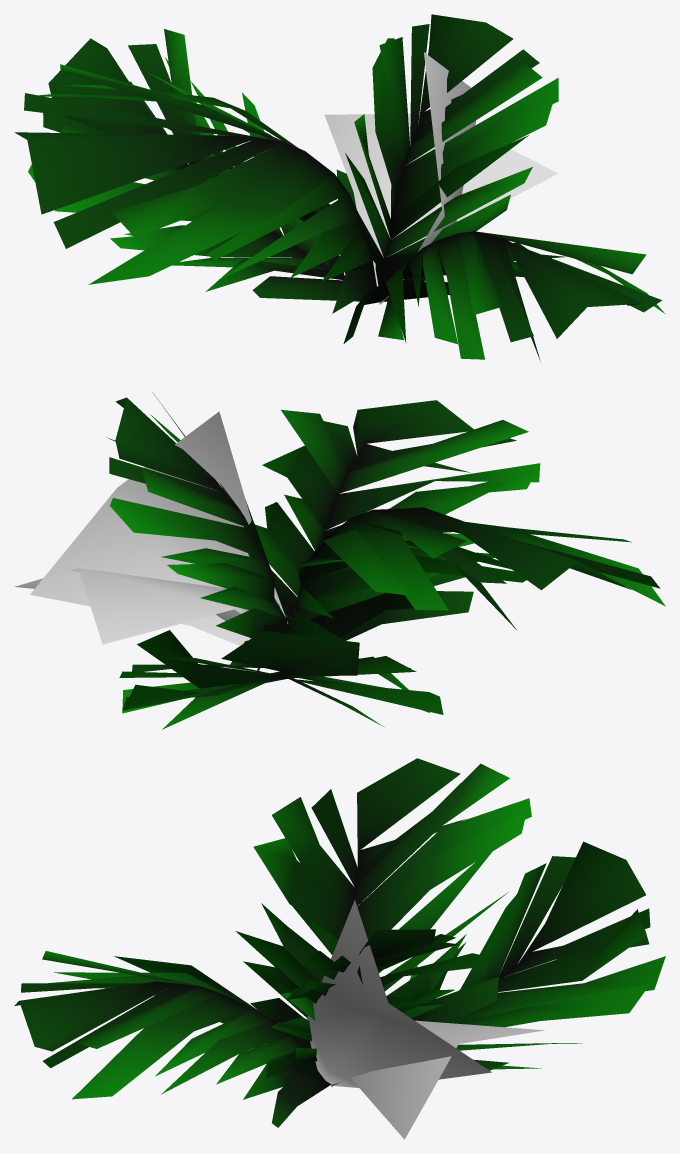
Rendered from PalmCover02_afsTREE_xlprl15_xmw05_xlb05_xlod01.fbx.
3 views of the same model, one above another, from view 1: azimuth 30°, elevation 25°; view 2: azimuth 150°, elevation 25°; view 3: azimuth 270°, elevation 25° (orthographic). The views are drawn at different scales.
Parts seen in each view (by area): view 1: trunk_PalmCover02_xw04_xt03_xlp05, leaf_PalmCover02_xw03_xt02_xlp02_xp02, leaf_PalmCover02_xw02_xt03_xlp01_xp09, leaf_PalmCover02_xw01_xt01_xlp00_xp05, leaf_PalmCover02_xw01_xt04_xlp01_xp07, leaf_PalmCover02_xw02_xt03_xlp01_xp10; view 2: leaf_PalmCover02_xw02_xt03_xlp01_xp09, trunk_PalmCover02_xw04_xt03_xlp05, leaf_PalmCover02_xw03_xt02_xlp02_xp02, leaf_PalmCover02_xw01_xt01_xlp00_xp05, leaf_PalmCover02_xw02_xt03_xlp01_xp10, leaf_PalmCover02_xw01_xt04_xlp01_xp07; view 3: trunk_PalmCover02_xw04_xt03_xlp05, leaf_PalmCover02_xw02_xt03_xlp01_xp09, leaf_PalmCover02_xw01_xt01_xlp00_xp05, leaf_PalmCover02_xw02_xt03_xlp01_xp10, leaf_PalmCover02_xw03_xt02_xlp02_xp02, leaf_PalmCover02_xw01_xt04_xlp01_xp07.
Part boxes in pixels (left/top/right/bottom): trunk_PalmCover02_xw04_xt03_xlp05: left=14, top=64, right=376, bottom=313; leaf_PalmCover02_xw03_xt02_xlp02_xp02: left=345, top=14, right=558, bottom=285; leaf_PalmCover02_xw02_xt03_xlp01_xp09: left=343, top=231, right=665, bottom=361; leaf_PalmCover02_xw01_xt01_xlp00_xp05: left=28, top=29, right=361, bottom=301; leaf_PalmCover02_xw01_xt04_xlp01_xp07: left=324, top=113, right=557, bottom=302; leaf_PalmCover02_xw02_xt03_xlp01_xp10: left=379, top=52, right=476, bottom=304; leaf_PalmCover02_xw02_xt03_xlp01_xp09: left=255, top=400, right=540, bottom=640; trunk_PalmCover02_xw04_xt03_xlp05: left=257, top=507, right=665, bottom=672; leaf_PalmCover02_xw03_xt02_xlp02_xp02: left=107, top=392, right=287, bottom=665; leaf_PalmCover02_xw01_xt01_xlp00_xp05: left=119, top=630, right=443, bottom=729; leaf_PalmCover02_xw02_xt03_xlp01_xp10: left=30, top=411, right=287, bottom=645; leaf_PalmCover02_xw01_xt04_xlp01_xp07: left=14, top=568, right=248, bottom=644; trunk_PalmCover02_xw04_xt03_xlp05: left=235, top=758, right=531, bottom=1048; leaf_PalmCover02_xw02_xt03_xlp01_xp09: left=14, top=951, right=330, bottom=1127; leaf_PalmCover02_xw01_xt01_xlp00_xp05: left=410, top=841, right=665, bottom=1070; leaf_PalmCover02_xw02_xt03_xlp01_xp10: left=306, top=900, right=491, bottom=1087; leaf_PalmCover02_xw03_xt02_xlp02_xp02: left=266, top=929, right=481, bottom=1083; leaf_PalmCover02_xw01_xt04_xlp01_xp07: left=331, top=1020, right=544, bottom=1139.
Size of what is drawn, in the model's own units: 2.05 by 2.29 by 0.8365.
